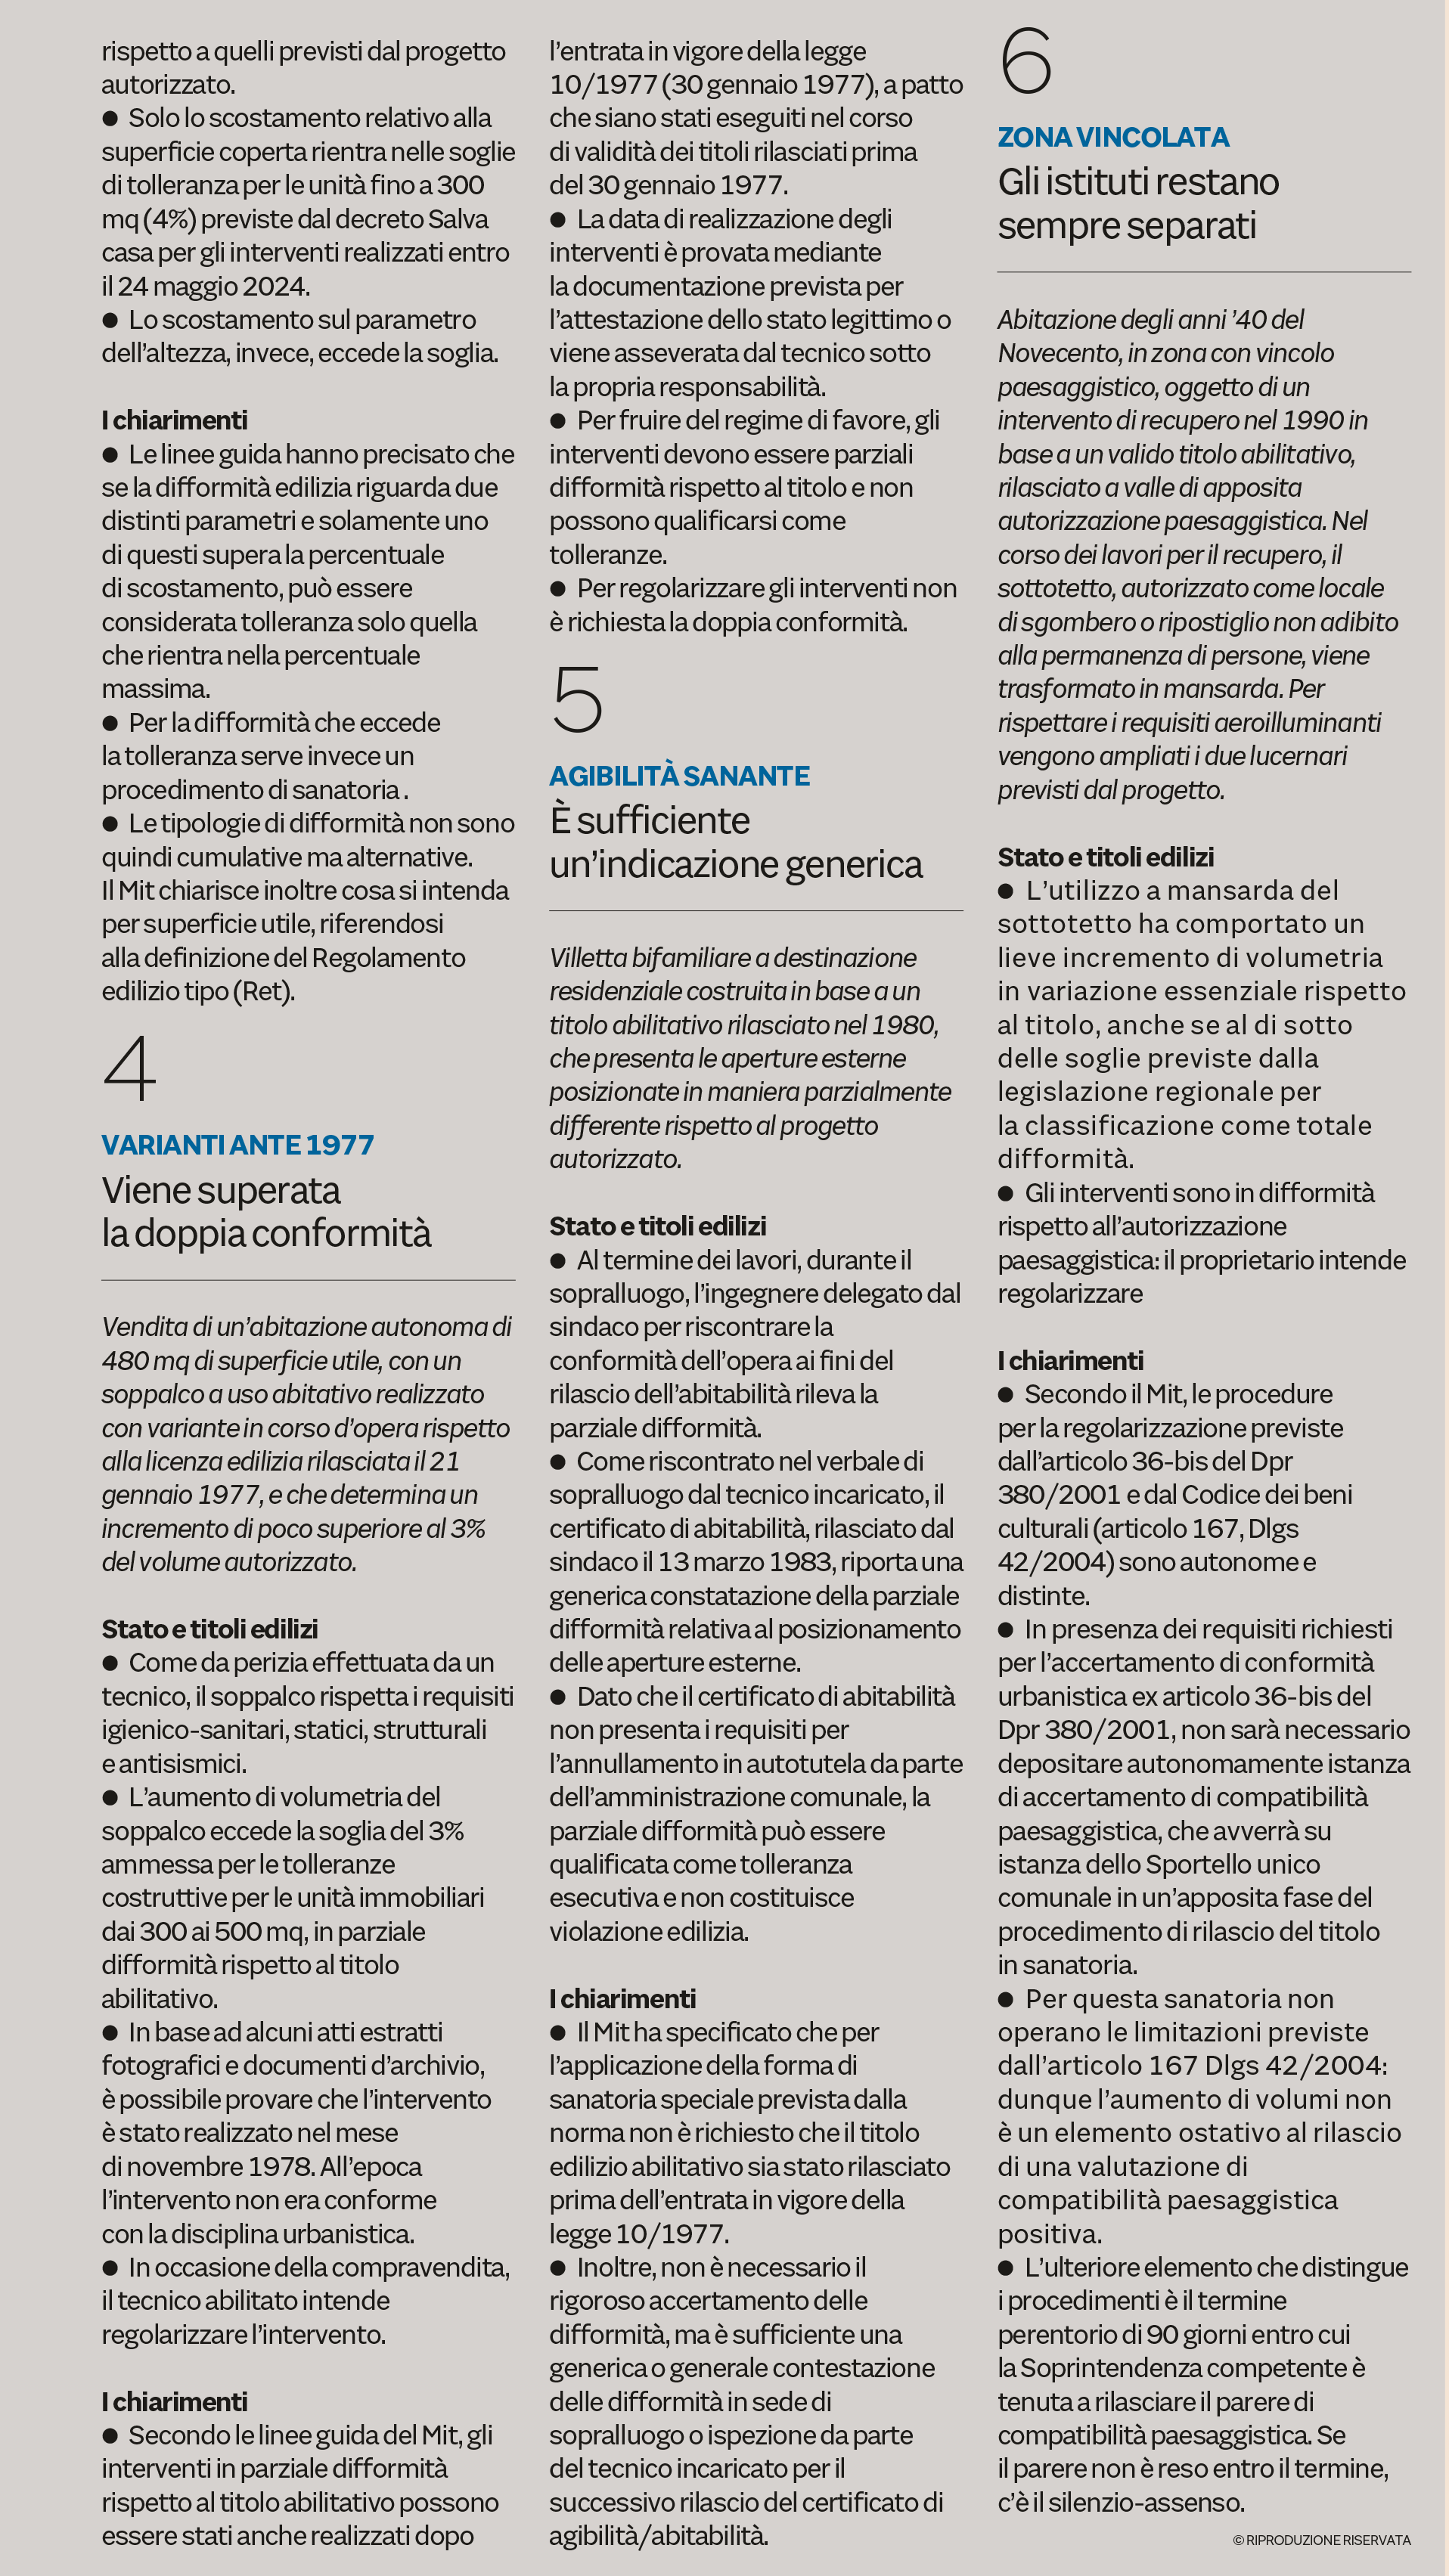scheda-punti-numero-1: (975, 11, 1426, 2526), (538, 653, 970, 2560), (94, 1016, 524, 2564)
scheda-testo-1: (96, 396, 524, 1007)
